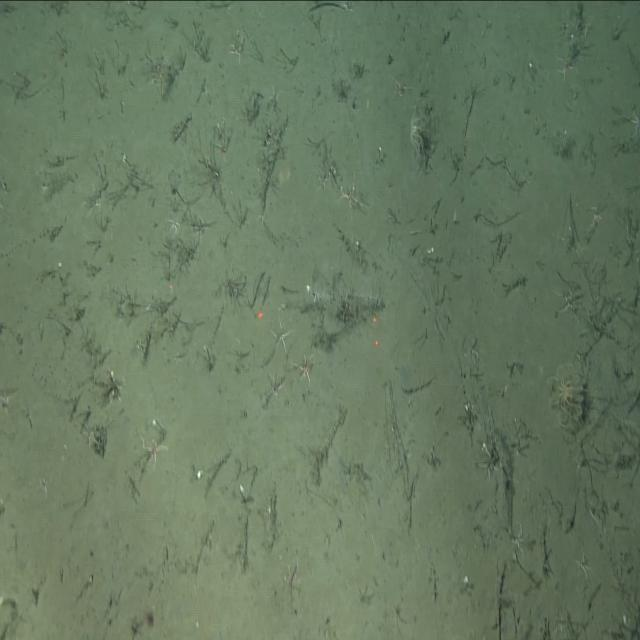Brittle Star: (332, 171, 371, 222), (136, 427, 172, 475), (265, 306, 297, 358), (550, 47, 581, 89), (571, 543, 596, 584), (293, 349, 317, 391)
Not Brittle Star: (548, 363, 587, 427)
